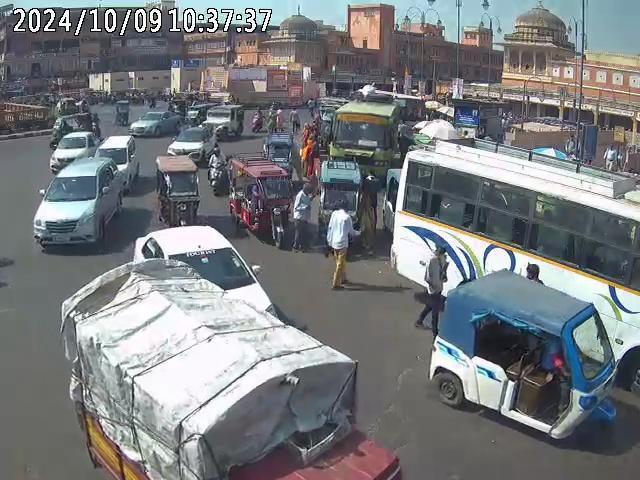auto: (428, 266, 618, 448), (229, 155, 296, 247), (153, 151, 200, 226), (114, 99, 131, 126)
bus: (390, 134, 640, 390), (328, 82, 401, 180)
car: (33, 156, 125, 253), (95, 134, 138, 193), (49, 130, 99, 171), (166, 124, 217, 164), (130, 109, 181, 137), (204, 102, 244, 137)
lorry: (58, 258, 398, 480)
person: (414, 243, 450, 333), (322, 200, 357, 290), (292, 181, 316, 250), (603, 144, 619, 173)
scooty-rider: (207, 146, 232, 196)
